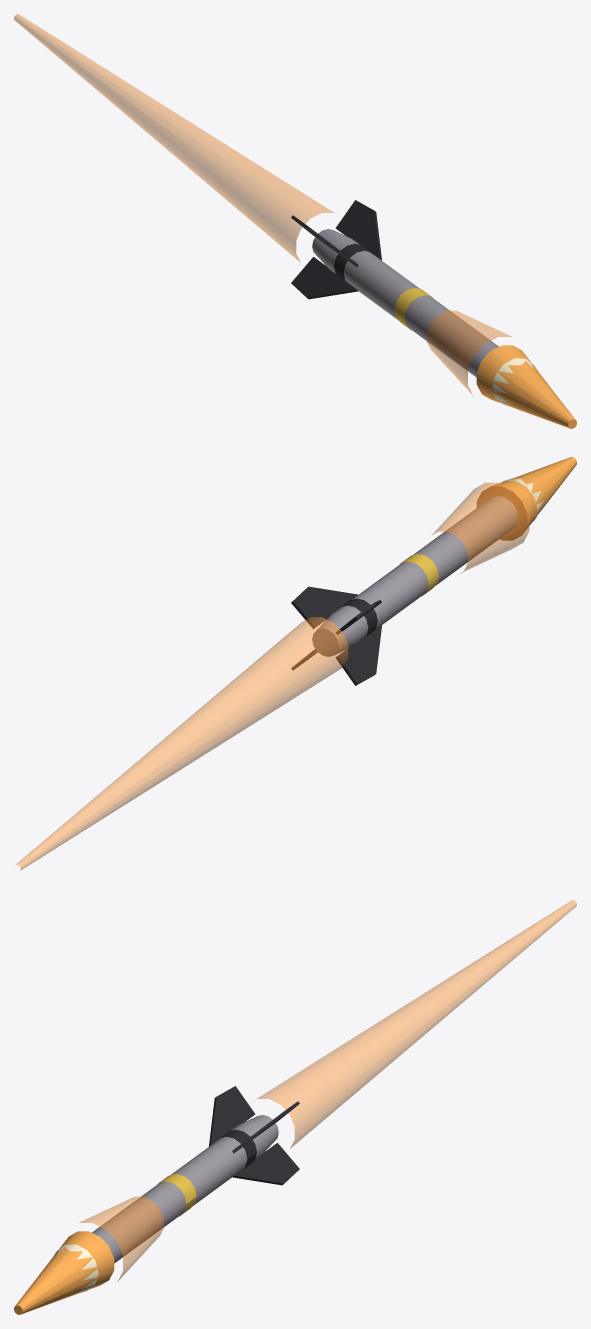
File: kinetic_warhead.glb
The picture shows the model from 3 angles, top to bottom: view 1: azimuth 30°, elevation 25°; view 2: azimuth 150°, elevation 25°; view 3: azimuth 330°, elevation 25°; orthographic projection.
Visible parts, largest first — view 1: heat_glow_trail, kinetic_warhead_body, heat_glow, kinetic_warhead_fine; view 2: heat_glow_trail, kinetic_warhead_body, heat_glow, kinetic_warhead_fine; view 3: heat_glow_trail, kinetic_warhead_body, heat_glow, kinetic_warhead_fine.
Part boxes in pixels (left/top/right/bottom): heat_glow_trail: left=14, top=14, right=511, bottom=395; kinetic_warhead_body: left=291, top=200, right=498, bottom=377; heat_glow: left=476, top=345, right=576, bottom=428; kinetic_warhead_fine: left=334, top=243, right=433, bottom=330; heat_glow_trail: left=16, top=482, right=529, bottom=870; kinetic_warhead_body: left=291, top=496, right=518, bottom=685; heat_glow: left=476, top=457, right=576, bottom=540; kinetic_warhead_fine: left=341, top=554, right=438, bottom=637; heat_glow_trail: left=79, top=900, right=576, bottom=1281; kinetic_warhead_body: left=92, top=1086, right=299, bottom=1263; heat_glow: left=14, top=1231, right=114, bottom=1314; kinetic_warhead_fine: left=157, top=1129, right=256, bottom=1216.
Size of the model in its own units: 0.6258 by 0.6258 by 8.65.
